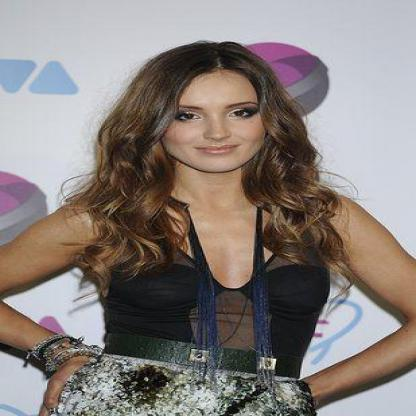long-hair: (61, 174, 352, 214)
